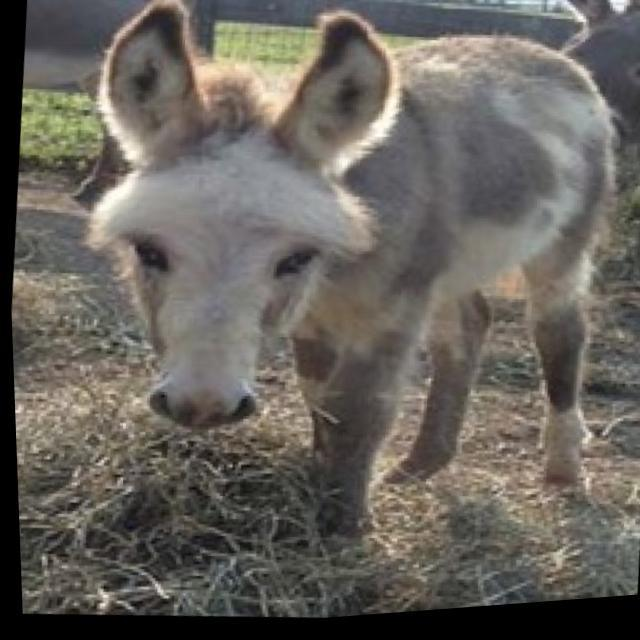Donkey: (48, 0, 640, 589), (9, 0, 222, 219), (530, 0, 640, 305)
